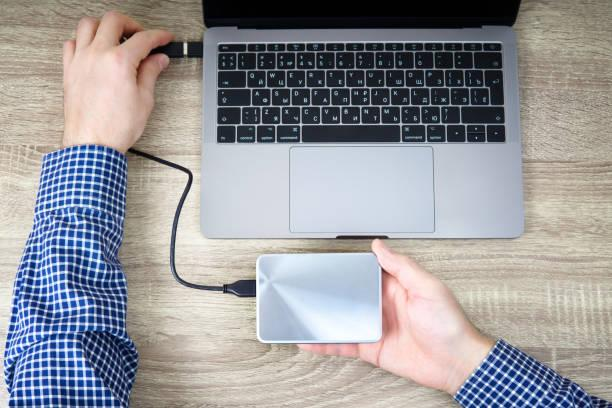HDD: (253, 253, 385, 346)
